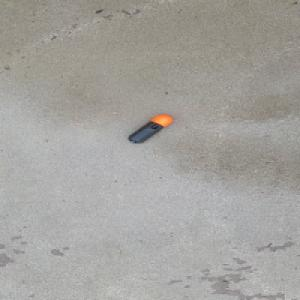PlasticPart: (127, 114, 173, 143)
